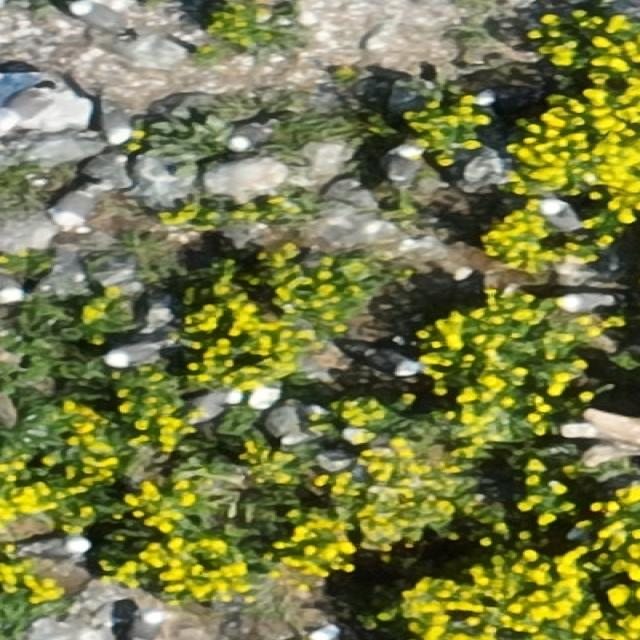umineko: (52, 183, 101, 230), (1, 88, 51, 134), (66, 1, 134, 34), (360, 348, 422, 378), (101, 101, 137, 144), (387, 146, 423, 188), (188, 391, 235, 420), (29, 536, 84, 558), (541, 200, 580, 231), (109, 341, 155, 366), (125, 611, 161, 639), (560, 292, 609, 312), (232, 124, 264, 148), (480, 89, 522, 107), (1, 276, 26, 304)
